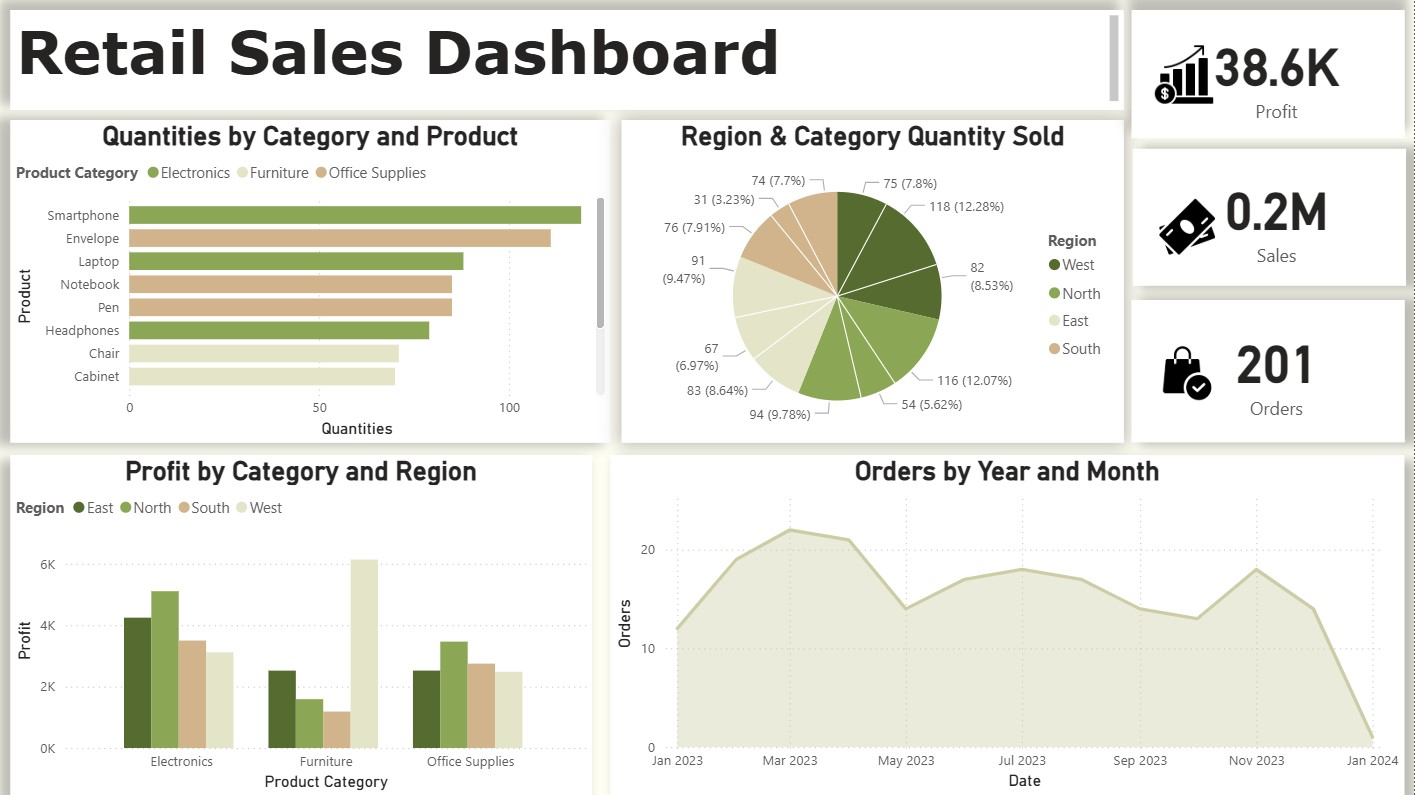

What the dashboard file says about the page in this screenshot:
{"tool":"powerbi","page":{"name":"Dashboard","canvas":[1280,720],"ordinal":0},"visuals":[{"type":"barChart","title":"Quantities by Category and Product","fields":{"Category":["Sheet1.Product Name"],"Y":["Sum(Sheet1.Quantity Sold)"],"Series":["Sheet1.Product Category"]},"box":[10.5,108.1,543,291.9],"z":0},{"type":"pieChart","title":"Region & Category Quantity Sold","fields":{"Category":["Sheet1.Region"],"Y":["Sum(Sheet1.Quantity Sold)"],"Series":["Sheet1.Product Category"]},"box":[562.8,108.1,454.7,291.9],"z":1000},{"type":"clusteredColumnChart","title":"Profit by Category and Region","fields":{"Y":["Sum(Sheet1.Profit)"],"Category":["Sheet1.Product Category"],"Series":["Sheet1.Region"]},"box":[10,411.2,526.2,308.8],"z":2000},{"type":"lineChart","title":"Orders by Year and Month","fields":{"Y":["CountNonNull(Sheet1.Order ID)"],"Category":["Sheet1.Order Date.Variation.Date Hierarchy.Year","Sheet1.Order Date.Variation.Date Hierarchy.Month"]},"box":[552.3,411.6,718.6,308.1],"z":3000},{"type":"card","fields":{"Values":["Sum(Sheet1.Total Sales)"]},"box":[1025.7,134.3,247.1,124.3],"z":4000},{"type":"card","fields":{"Values":["Sum(Sheet1.Profit)"]},"box":[1024.3,8.6,247.1,115.7],"z":5000},{"type":"card","fields":{"Values":["Count(Sheet1.Order ID)"]},"box":[1024.3,271.4,247.1,128.6],"z":6000},{"type":"textbox","box":[10,8.6,1007.1,90],"z":7000},{"type":"image","box":[1044.3,307.1,60,60],"z":8000},{"type":"image","box":[1044.3,171.4,60,67.1],"z":8001},{"type":"image","box":[1038.6,35.7,65.7,62.9],"z":8002}]}

Visuals, with their boxes in screenshot pixels (x1, y1, x2, y2), scaled from the page's 1280x720 canvas onto the 1415x795 screenshot:
"Quantities by Category and Product" barChart: locate(12, 119, 612, 442)
"Region & Category Quantity Sold" pieChart: locate(622, 119, 1125, 442)
"Profit by Category and Region" clusteredColumnChart: locate(11, 454, 593, 794)
"Orders by Year and Month" lineChart: locate(611, 454, 1405, 794)
card - Sum(Sheet1.Total Sales): locate(1134, 148, 1407, 286)
card - Sum(Sheet1.Profit): locate(1132, 9, 1405, 137)
card - Count(Sheet1.Order ID): locate(1132, 300, 1405, 442)
textbox: locate(11, 9, 1124, 109)
image: locate(1154, 339, 1221, 405)
image: locate(1154, 189, 1221, 263)
image: locate(1148, 39, 1221, 109)
